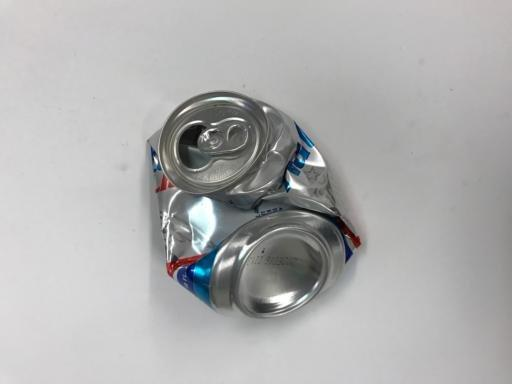kaleng: (144, 90, 363, 319)
